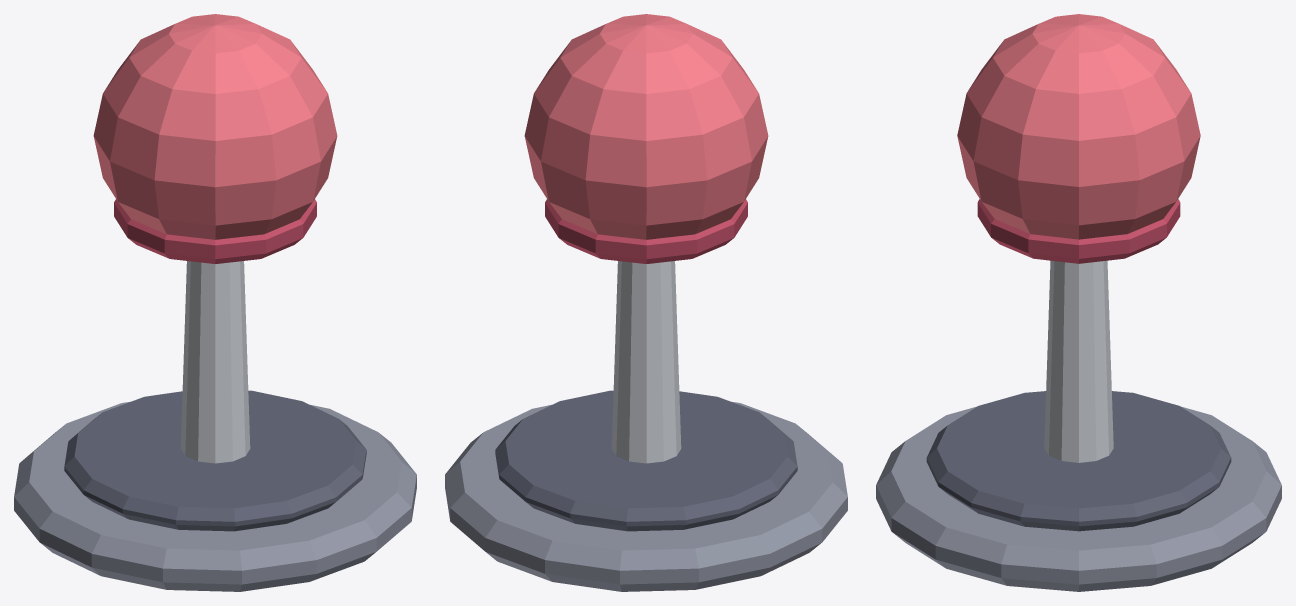
Rendered from game-ui-icon-library-map-pin-dot-44e2523b__19037.glb.
3 views of the same model, side by side, from view 1: azimuth 30°, elevation 25°; view 2: azimuth 150°, elevation 25°; view 3: azimuth 270°, elevation 25° (orthographic).
Visible parts, largest first — view 1: map-pin-dot; view 2: map-pin-dot; view 3: map-pin-dot.
Part boxes in pixels (x1=…): map-pin-dot: x1=14, y1=14, x2=416, y2=591; map-pin-dot: x1=445, y1=14, x2=847, y2=591; map-pin-dot: x1=876, y1=14, x2=1281, y2=591.
Bounding box in the file's own units: 0.7094 × 0.94 × 0.7094.
